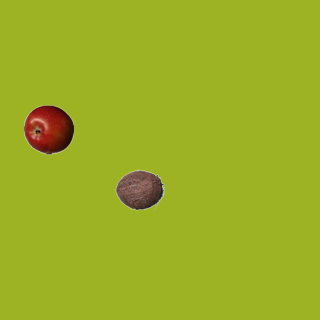Apple Braeburn: (23, 104, 73, 154)
Cocos: (114, 164, 164, 214)
